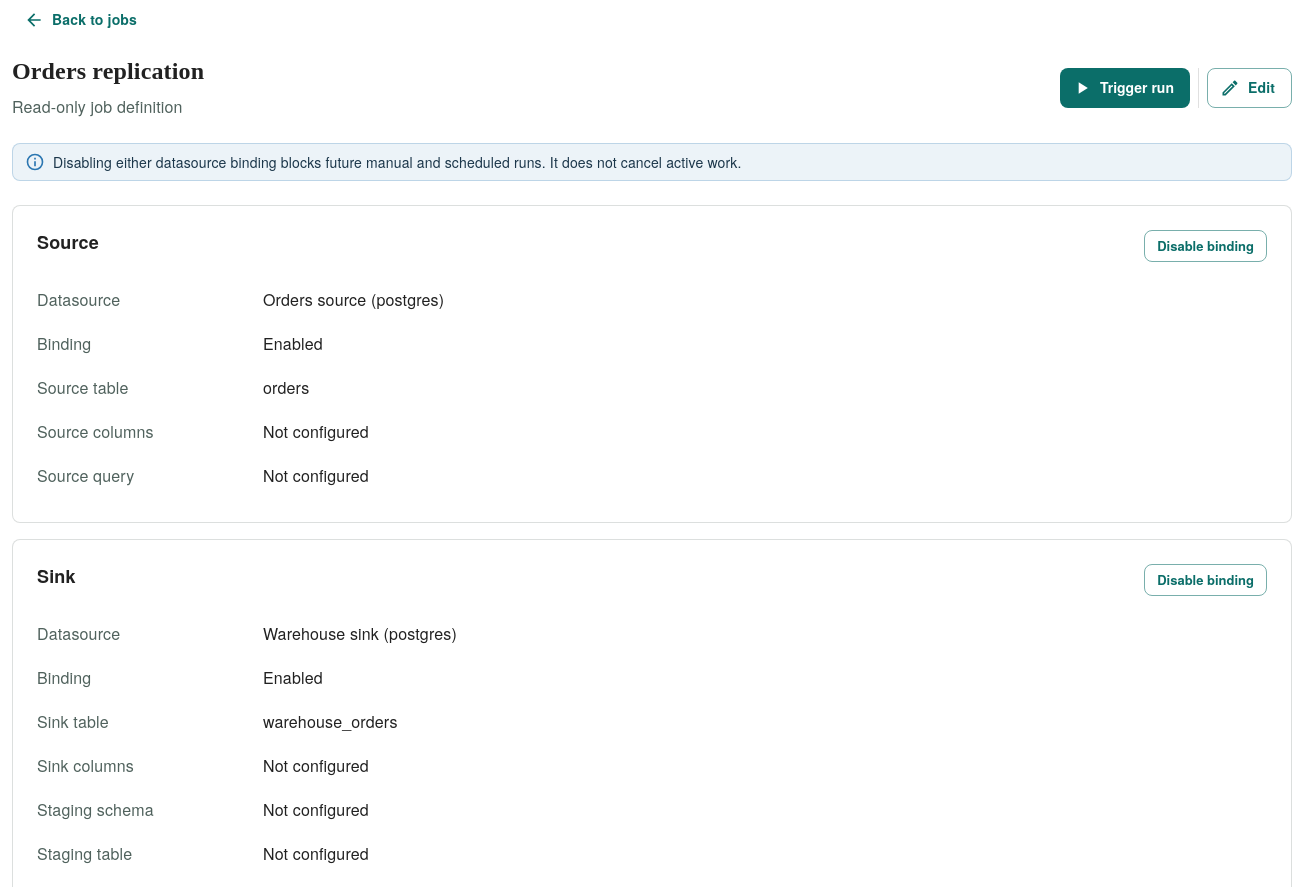
it: JobDetailPage › shows a conflict error without navigating when a run is already active
Click the button "Trigger run": {"x": 1125, "y": 88} [1060,68,1190,108]
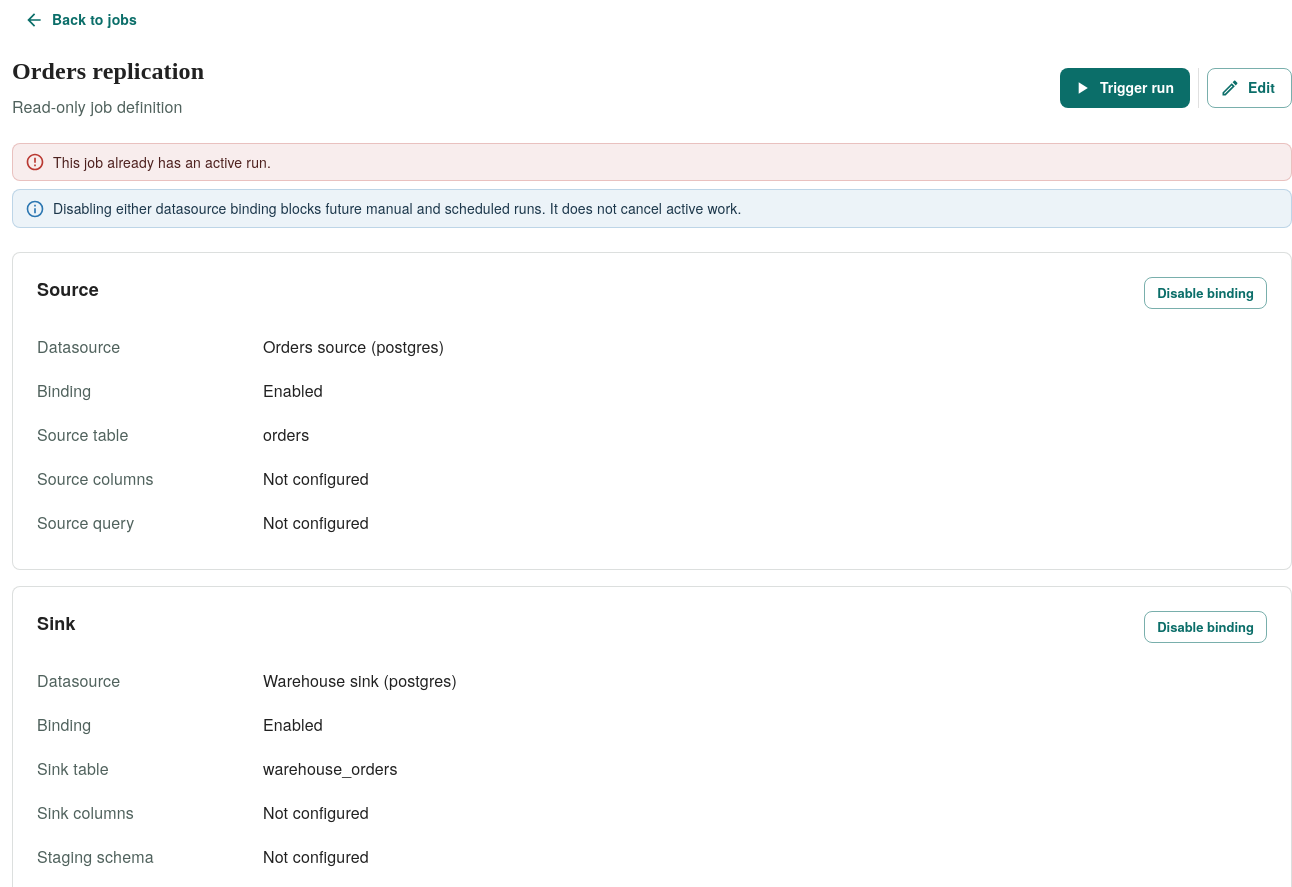
Result: the text "This job already has an active run." is shown at [53,152,271,172]
